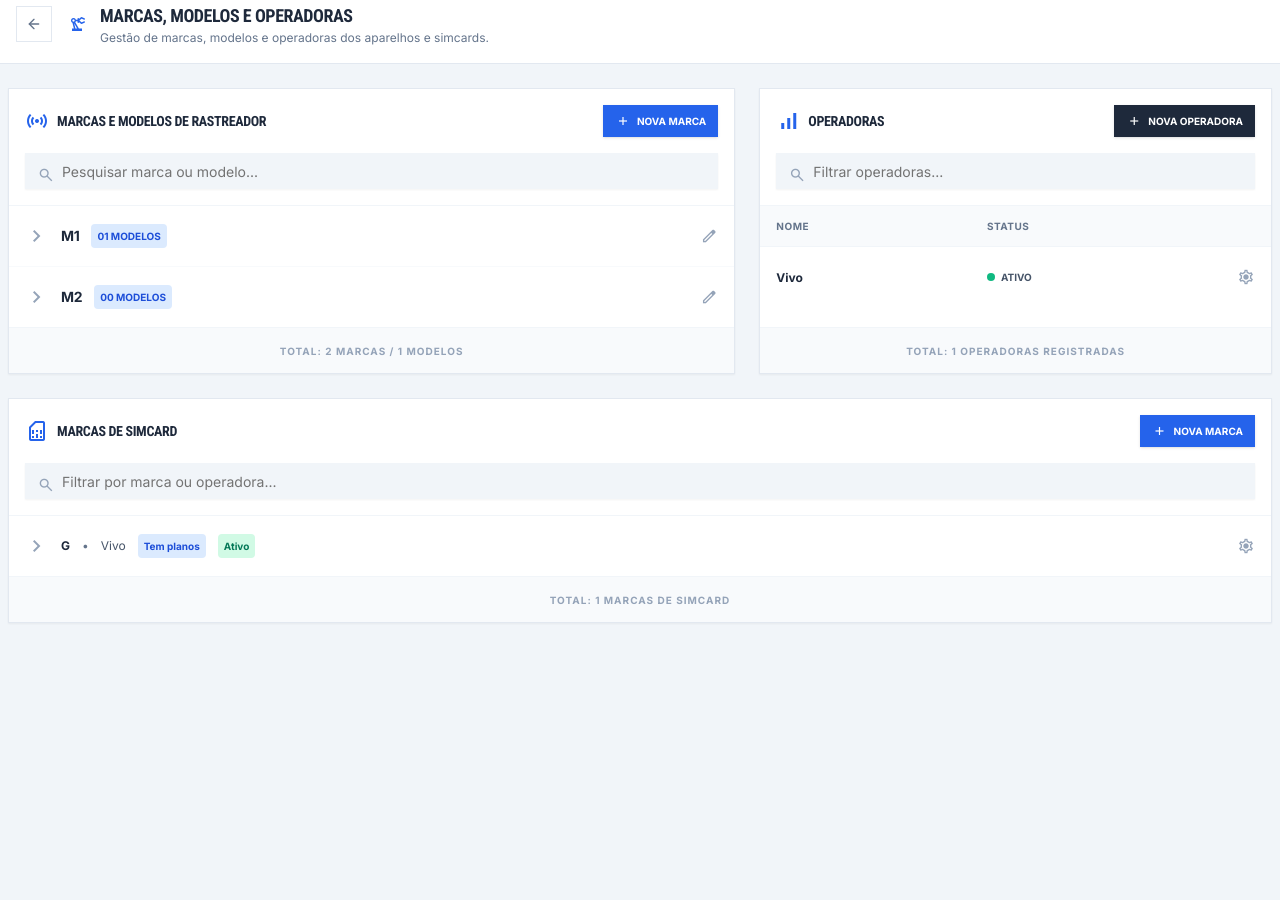
Test: EquipamentosConfigPage (integração) › busca restringe marcas; busca inexistente exibe vazio; limpar restaura totais
Check: the text "Total: 2 Marcas / 1 Modelos" is shown, box [280,345,463,357]
In the field with placeholder "Pesquisar marca ou modelo...": (372, 171) [25,153,718,189], type "M2"
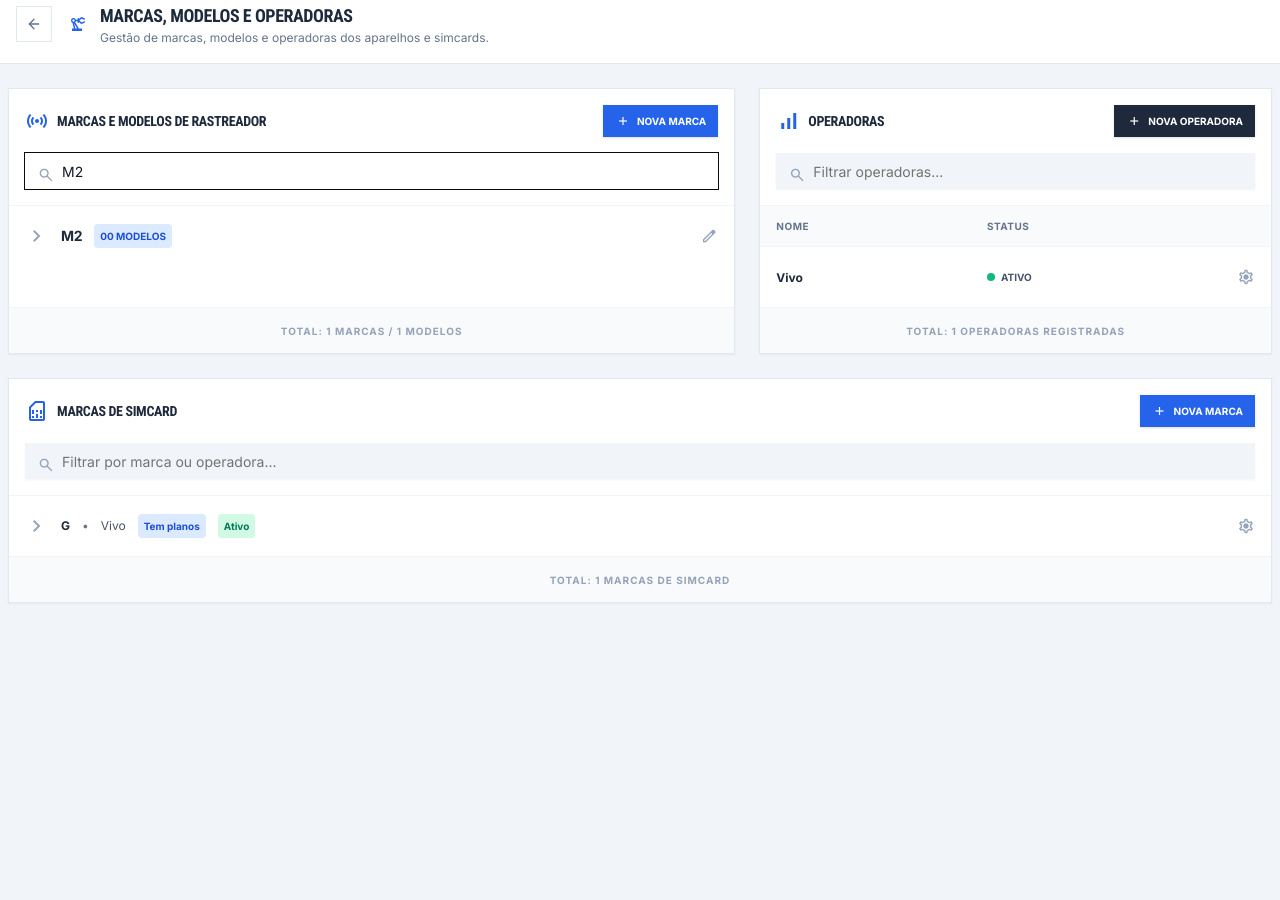
Check: the text "Total: 1 Marcas / 1 Modelos" is shown, box [281,325,462,337]
Replace the text in the field with placeholder "Pesquisar marca ou modelo..." with "nada-encaixa-zzz": (372, 171) [25,153,718,189]
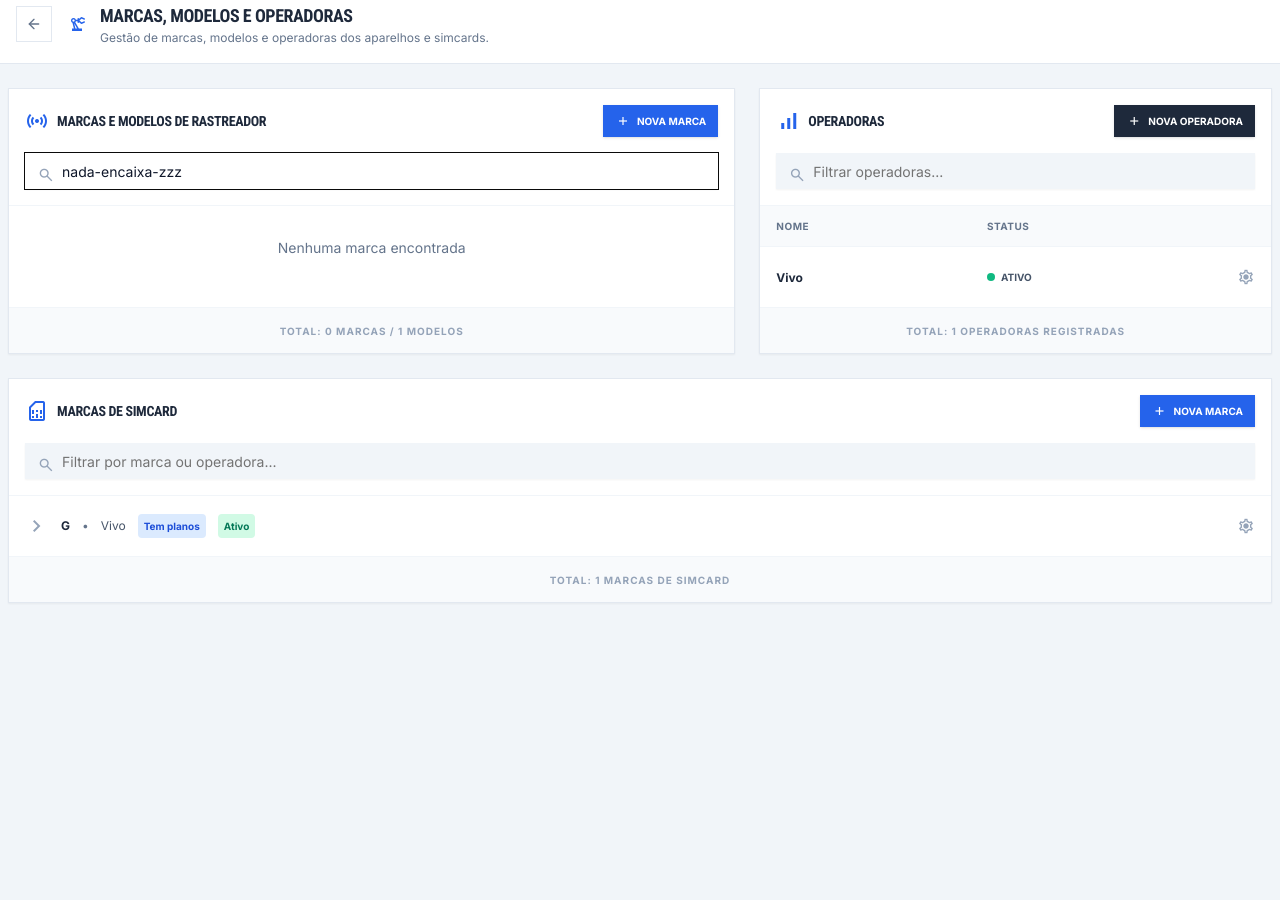
Check: the text "Nenhuma marca encontrada" is shown, box [278,239,466,256]
Check: the text "Total: 0 Marcas / 1 Modelos" is shown, box [280,325,464,337]
Clear the field with placeholder "Pesquisar marca ou modelo...": (372, 171) [25,153,718,189]
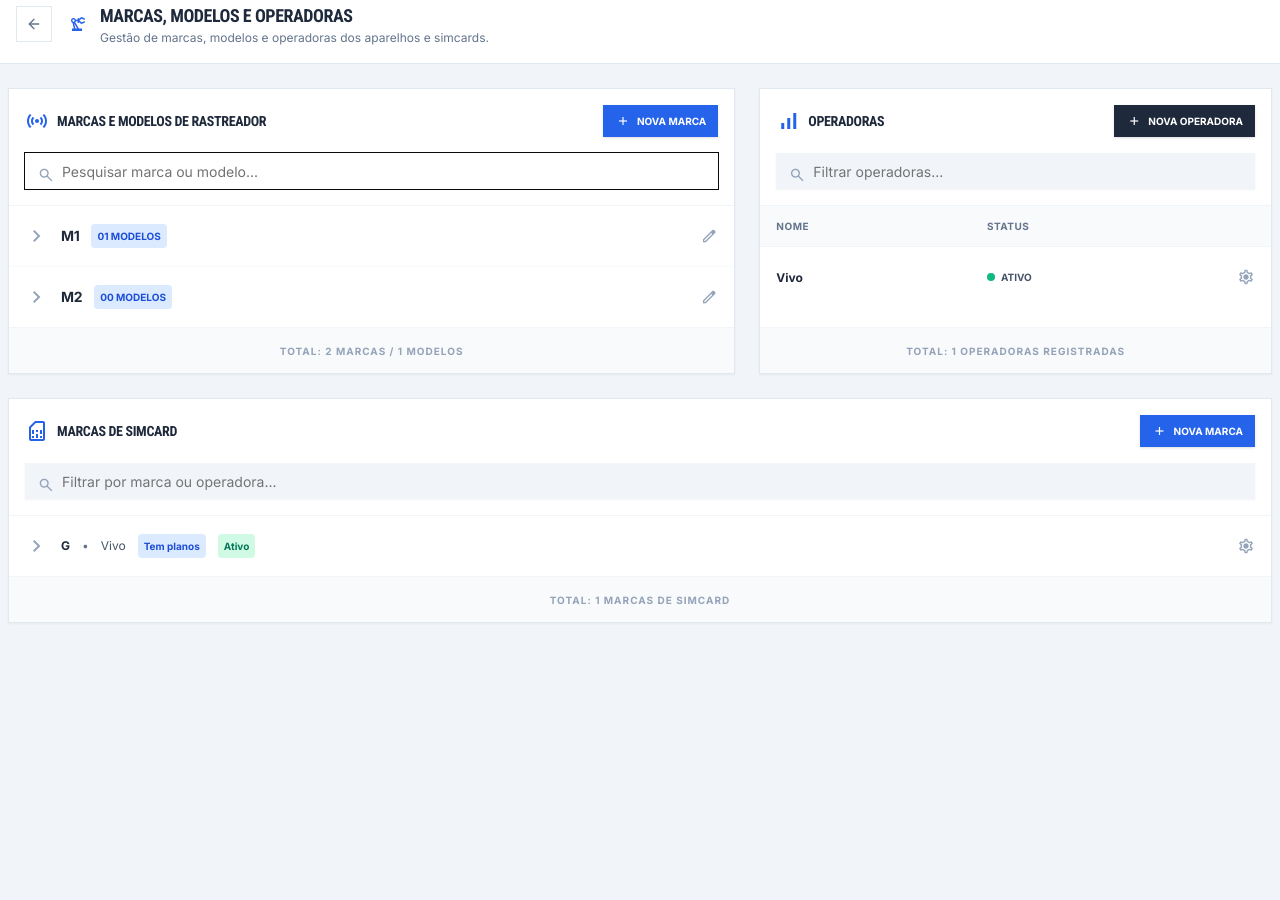
Check: the text "Total: 2 Marcas / 1 Modelos" is shown, box [280,345,463,357]
